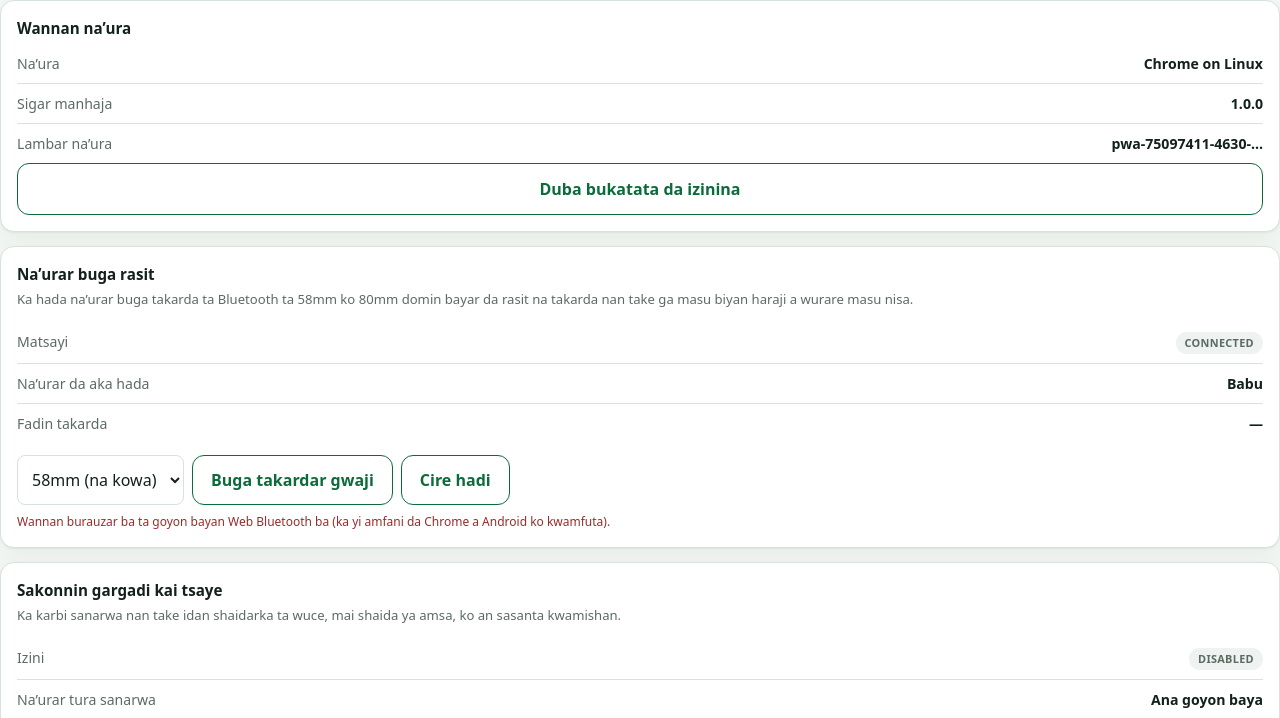
Scenario: a printer that refuses, on the agent screen › falls back to the general refusal for an error it does not recognise
Click the button "Buga takardar gwaji" at (292, 480), box [192,455,393,505]
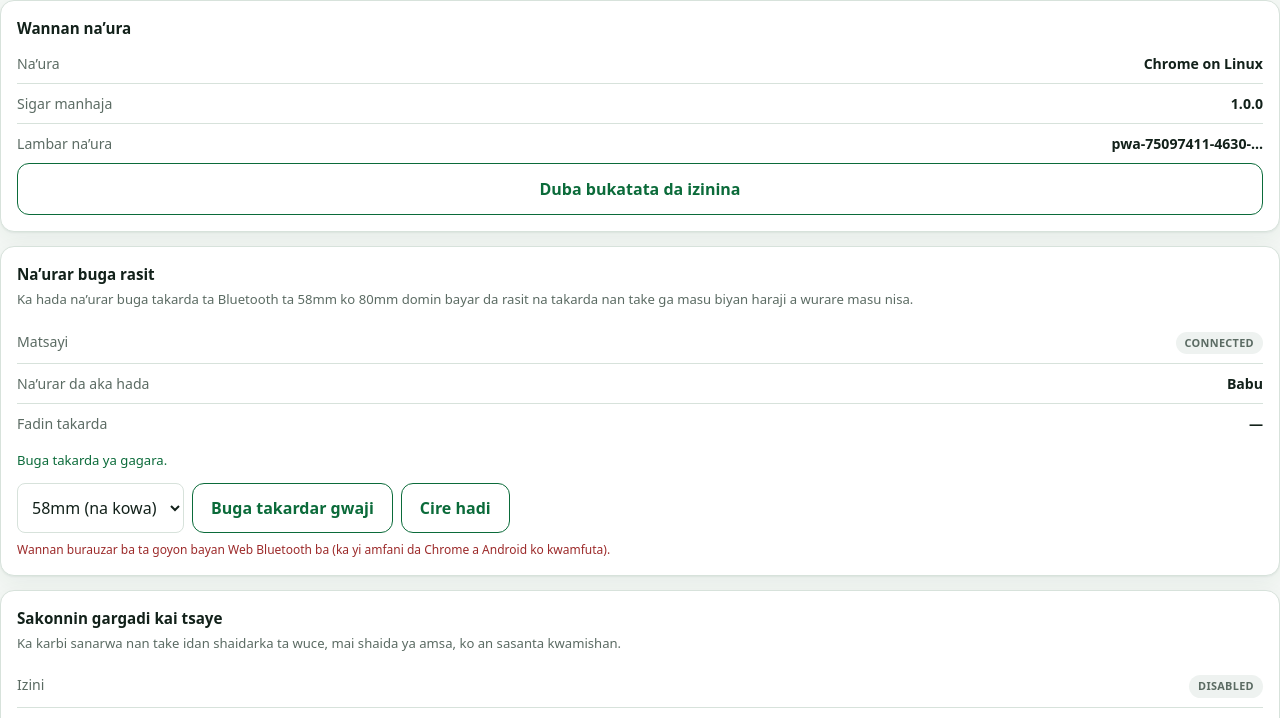
Result: the text "Buga takarda ya gagara." is shown at [17,451,167,469]
